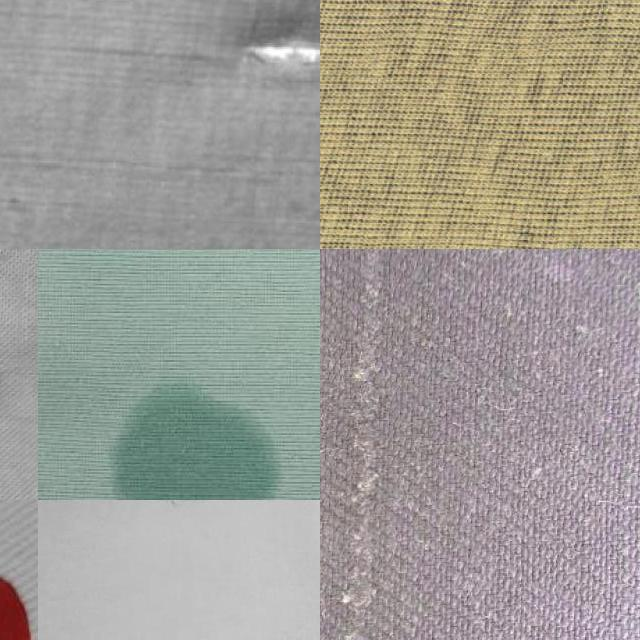Hole: (69, 362, 314, 500), (0, 313, 25, 445)
Thread_other: (320, 249, 475, 640)
seam: (212, 0, 320, 123)
